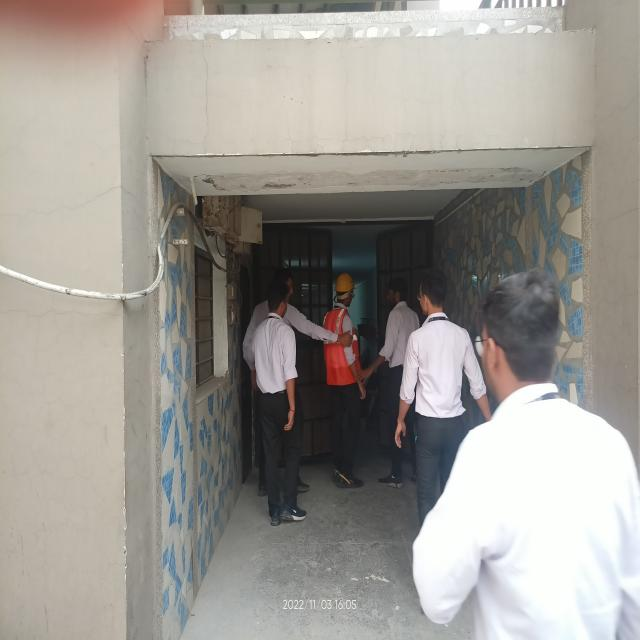safe: (322, 273, 371, 489)
unsafe: (433, 262, 633, 640), (409, 274, 470, 514), (253, 289, 305, 530), (378, 279, 415, 489)
